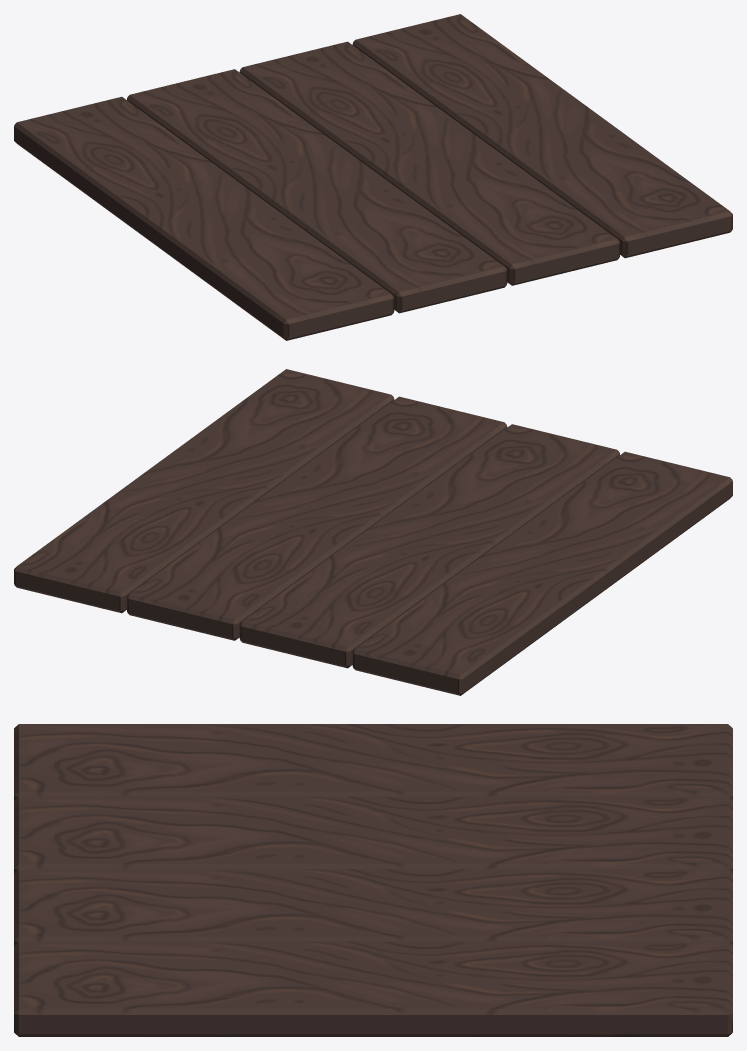
File: trapdoor.obj
3 views of the same model, one above another, from view 1: azimuth 30°, elevation 25°; view 2: azimuth 150°, elevation 25°; view 3: azimuth 270°, elevation 25° (orthographic). The views are drawn at different scales.
Visible parts, largest first — view 1: trapdoor_Cube.033; view 2: trapdoor_Cube.033; view 3: trapdoor_Cube.033.
Boxes of the visible parts, x1,y1,x2,y2 form: trapdoor_Cube.033: (14,14,732,340); trapdoor_Cube.033: (14,369,732,695); trapdoor_Cube.033: (14,724,732,1036).
Size of the model in its own units: 0.6998 by 0.0316 by 0.7373.
Materials: 1 (1 with a texture image).
